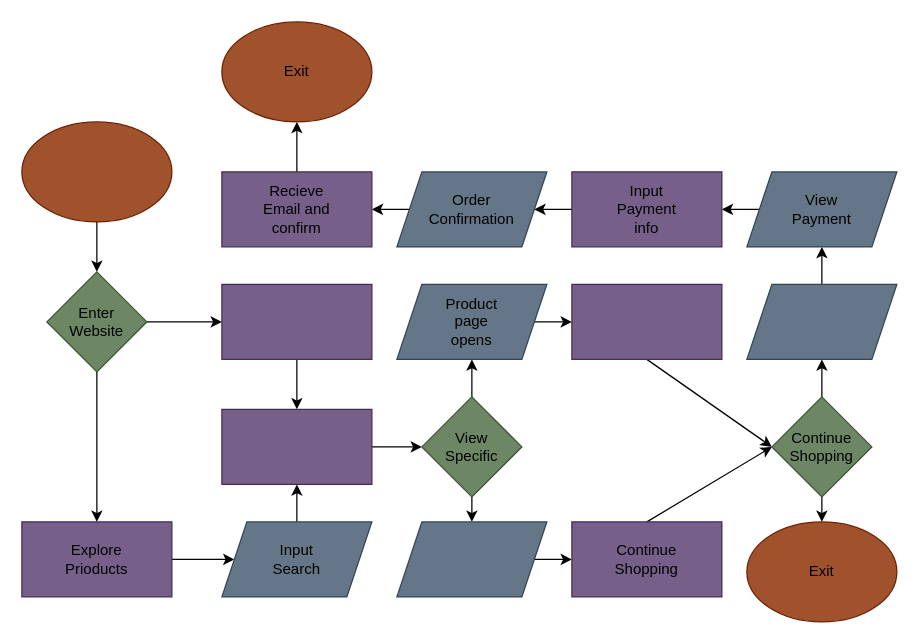
This 919x644 diagram has some shape labels left out. The shapes that lost their labels are listed below. From the top down, each one's centre as x and y in pixels, then its label:
[96,171]: Start
[296,321]: Search for product
[646,321]: Add to Cart
[821,321]: View Cart
[296,446]: Look over products
[471,559]: Do not view
